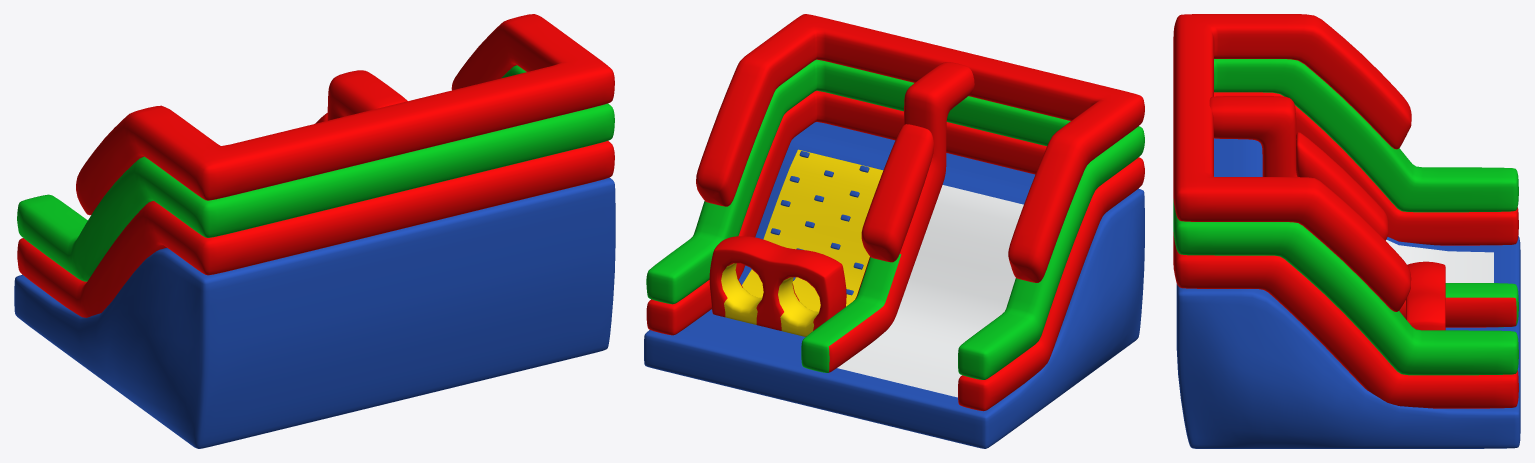
File: bounce_combo.glb
3 renders of one model, left to right at view 1: azimuth 30°, elevation 25°; view 2: azimuth 150°, elevation 25°; view 3: azimuth 270°, elevation 25°, orthographic. The views are drawn at different scales.
Visible parts, largest first — view 1: Object_10; view 2: Object_10; view 3: Object_10.
Boxes of the visible parts, left/top/right/bottom form: Object_10: left=14, top=14, right=615, bottom=448; Object_10: left=644, top=14, right=1144, bottom=448; Object_10: left=1173, top=14, right=1520, bottom=448.
Bounding box in the file's own units: 15.96 × 9.86 × 11.93.
Materials: 1 (1 with a texture image).
